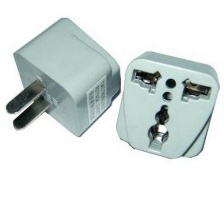three_eye_plug: (1, 14, 124, 143), (113, 46, 221, 162)
